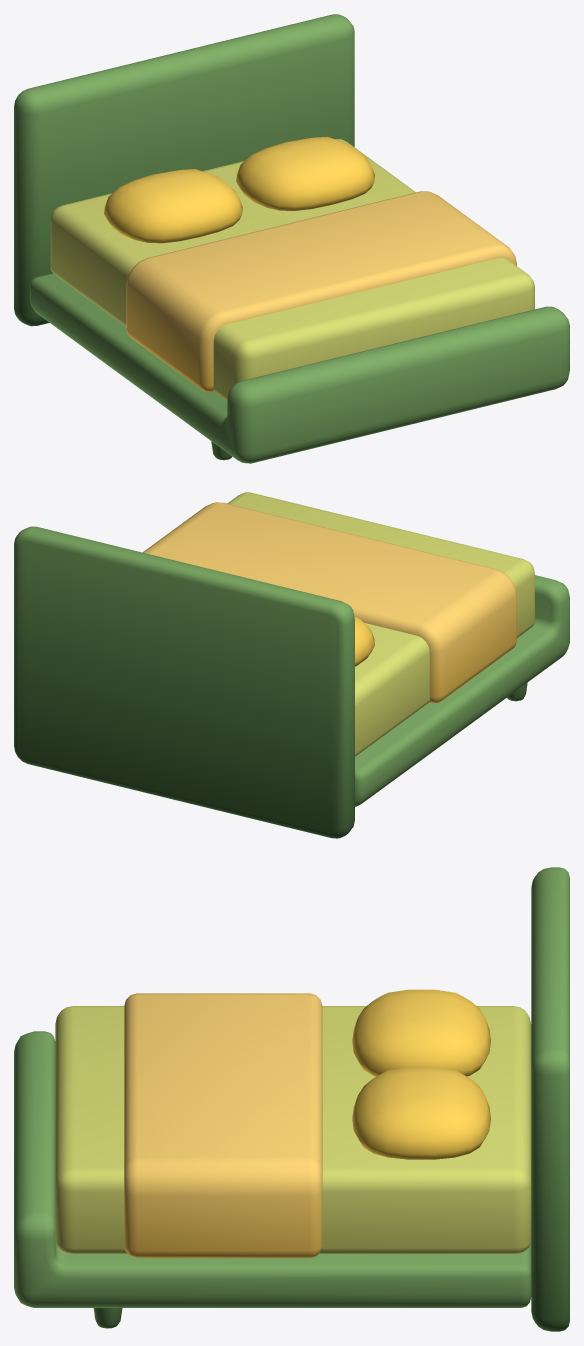
File: Bed_01.glb
The picture shows the model from 3 angles, top to bottom: view 1: azimuth 30°, elevation 25°; view 2: azimuth 150°, elevation 25°; view 3: azimuth 270°, elevation 25°; orthographic projection. The views are drawn at different scales.
Parts seen in each view (by area): view 1: Bed_01; view 2: Bed_01; view 3: Bed_01.
Part boxes in pixels (x1,y1,x2,y2): Bed_01: (14,14,569,463); Bed_01: (14,492,569,838); Bed_01: (14,867,569,1331).
Bounding box in the file's own units: 1.8 × 1.2 × 2.15.
Materials: 1 (1 with a texture image).
